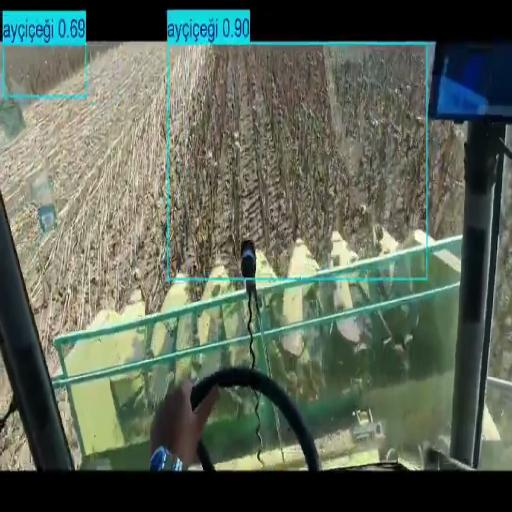ayc: (2, 47, 84, 92), (88, 43, 120, 56)
